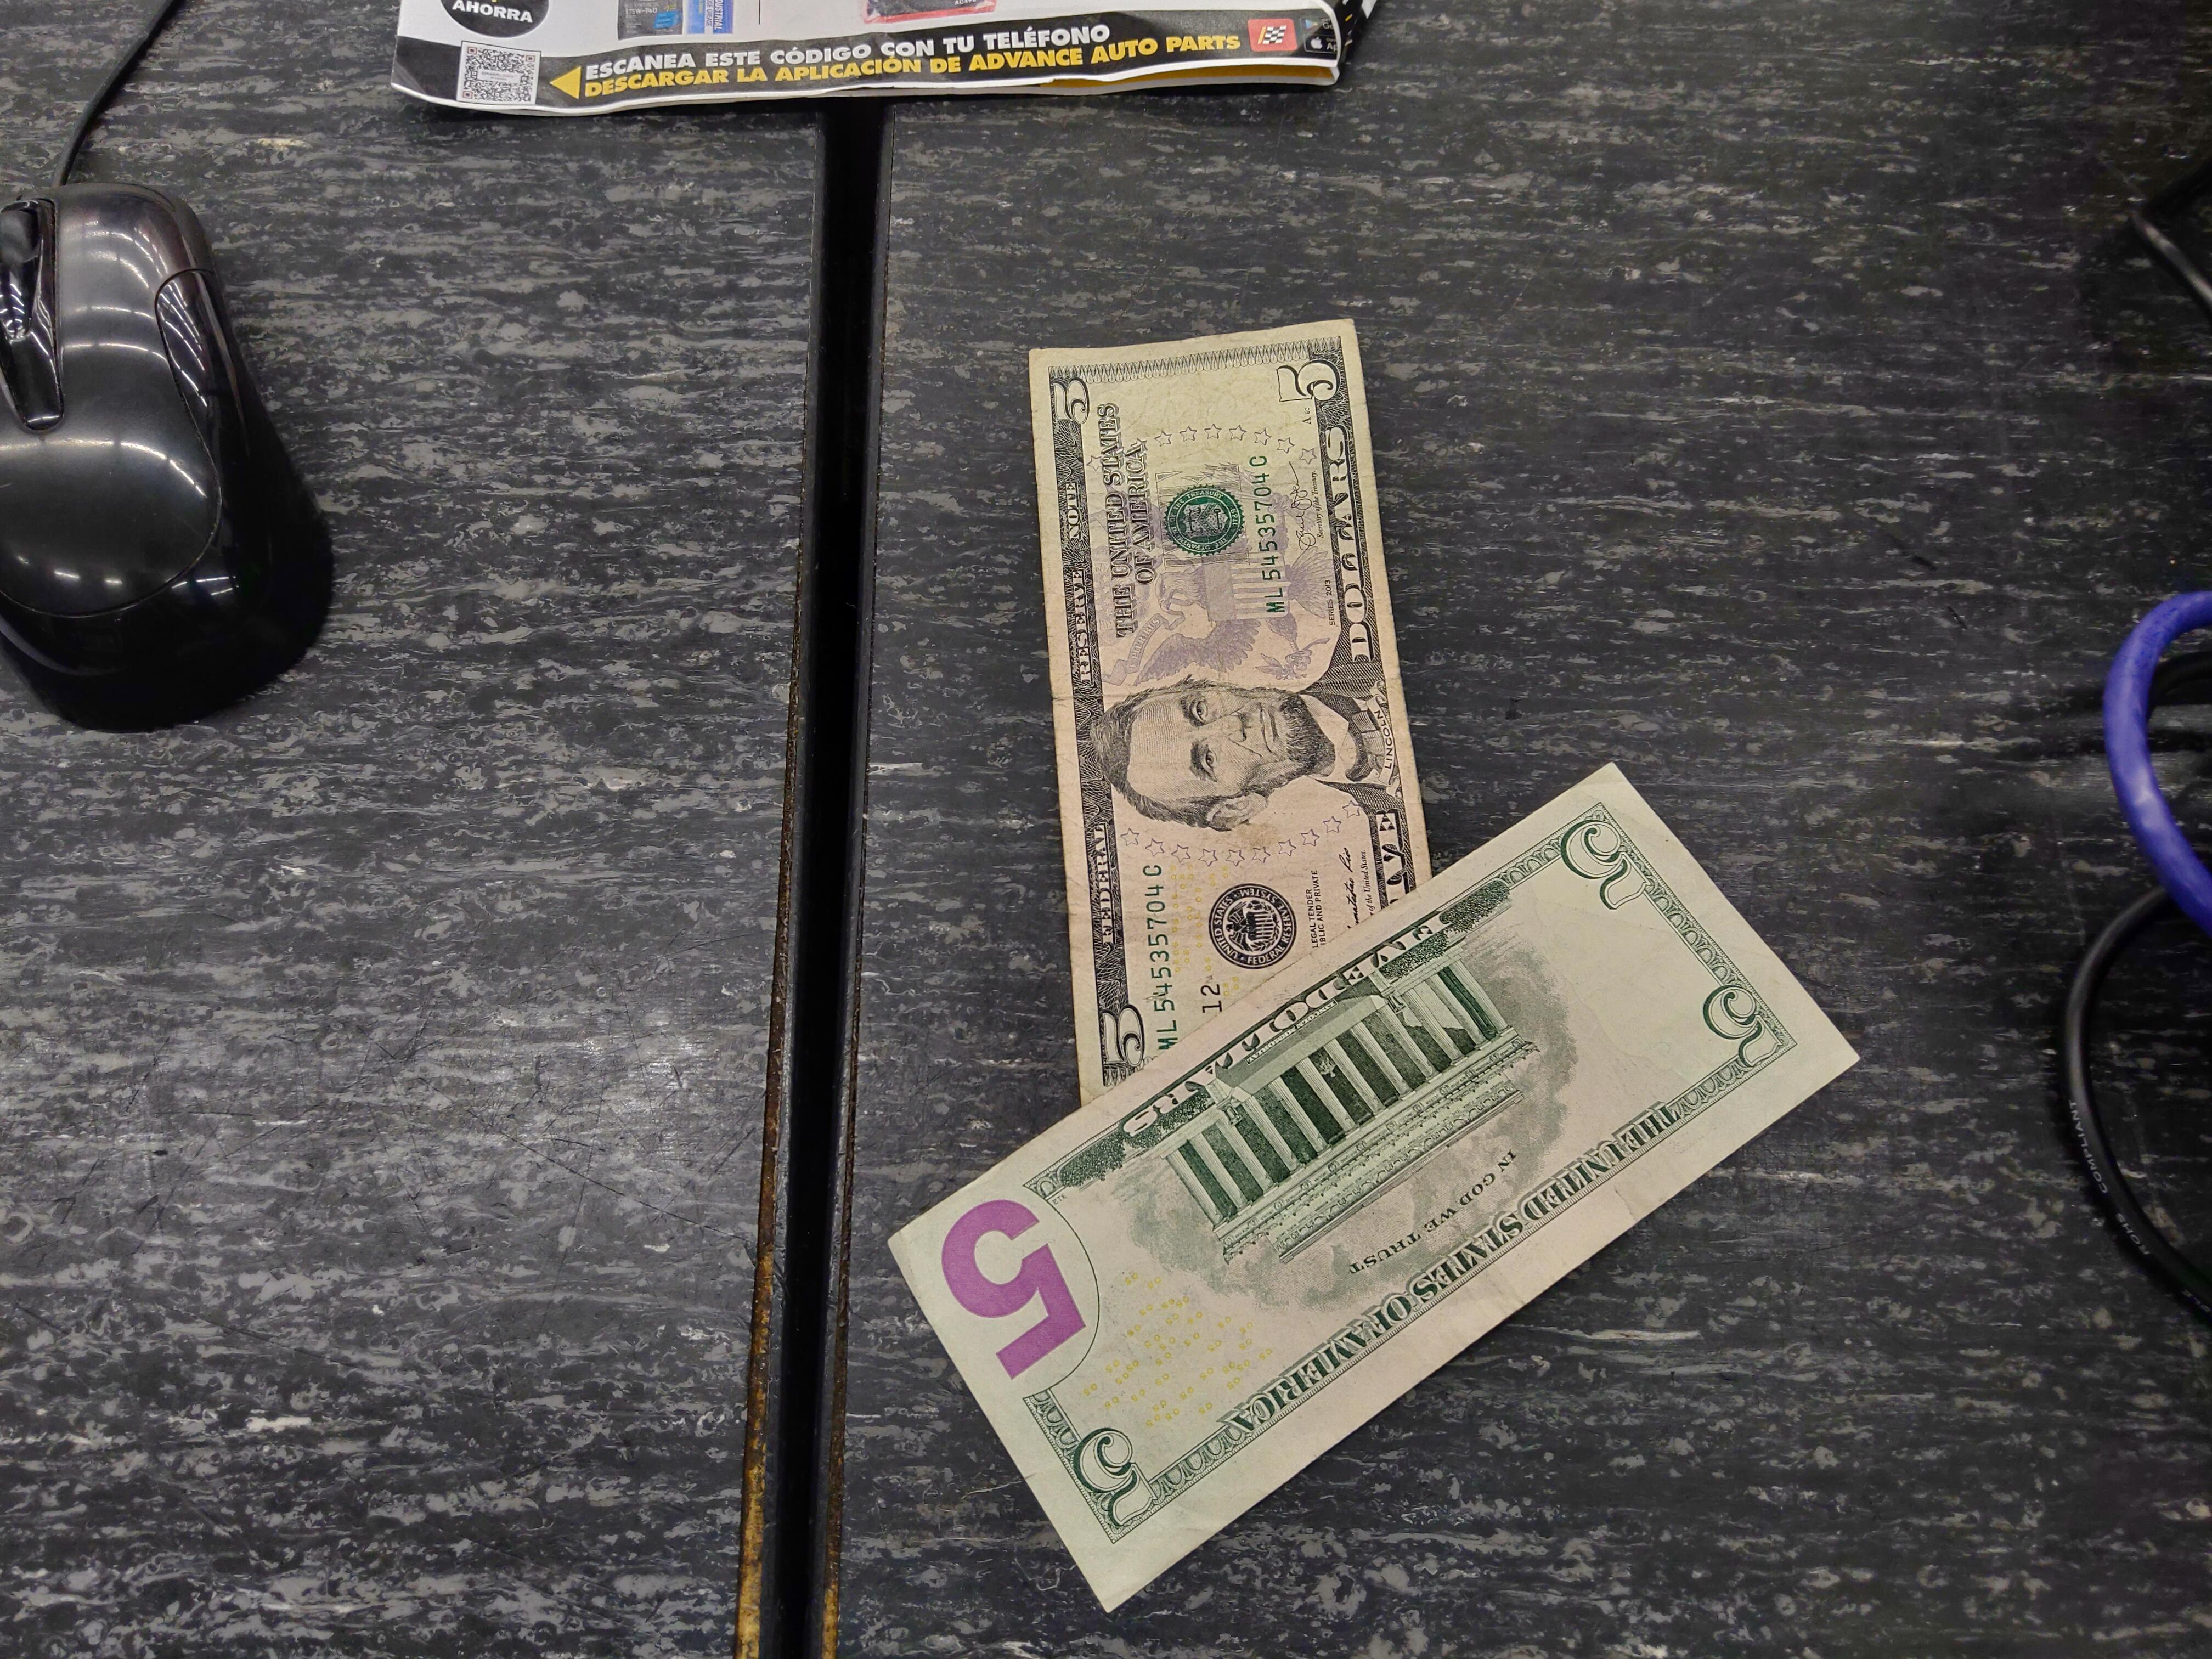FiveBill: (883, 760, 1864, 1619), (1026, 317, 1435, 1110)
